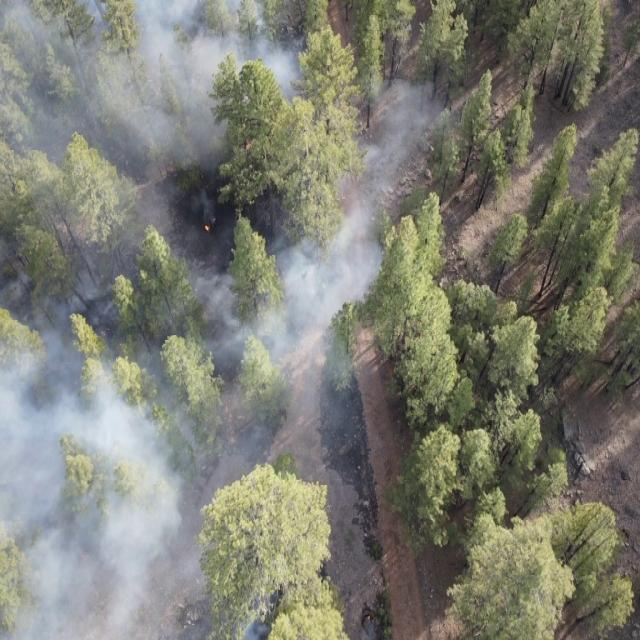fire: (202, 222, 212, 236), (364, 612, 372, 622)
smoke: (0, 237, 393, 640), (0, 0, 454, 239)
